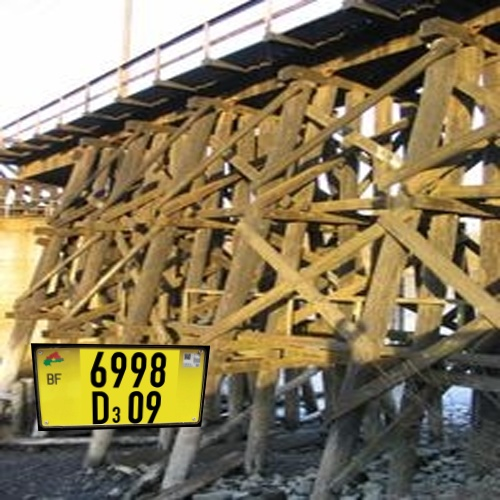plate: (21, 330, 219, 440)
